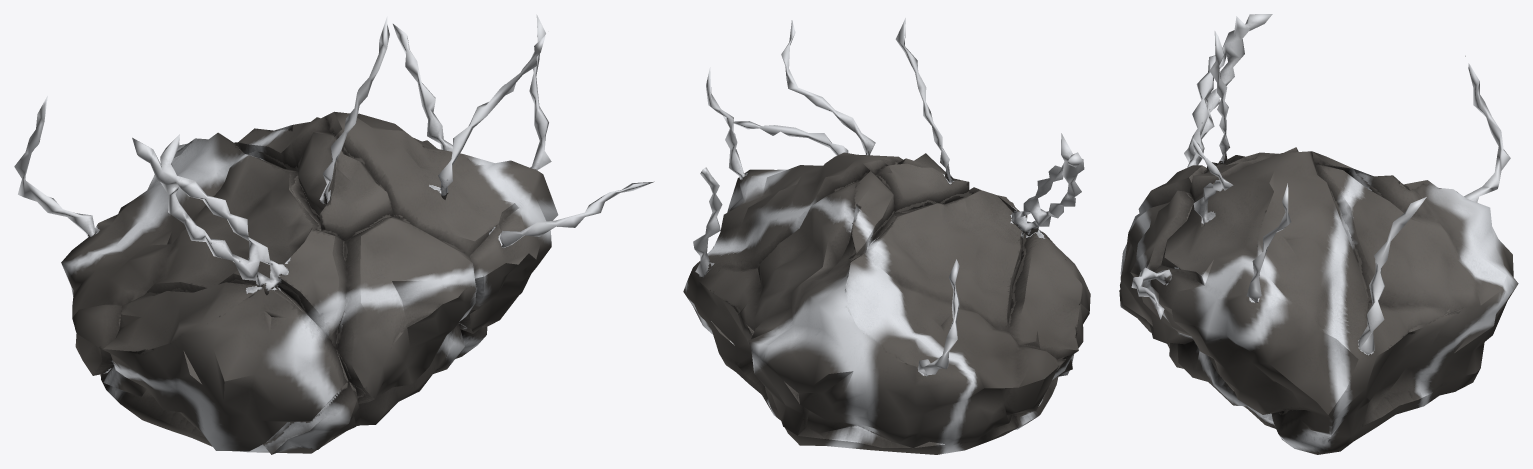
The model's file is mineral_plata.fbx.
The picture shows the model from 3 angles, left to right: view 1: azimuth 30°, elevation 25°; view 2: azimuth 150°, elevation 25°; view 3: azimuth 270°, elevation 25°; orthographic projection. The views are drawn at different scales.
Visible parts, largest first — view 1: mineral_plata; view 2: mineral_plata; view 3: mineral_plata.
Boxes of the visible parts, <box> form: mineral_plata: <box>14,14,654,454</box>; mineral_plata: <box>683,18,1090,454</box>; mineral_plata: <box>1119,14,1518,454</box>.
Bounding box in the file's own units: 2.91 × 2.29 × 2.3.
Materials: 1 (1 with a texture image).
